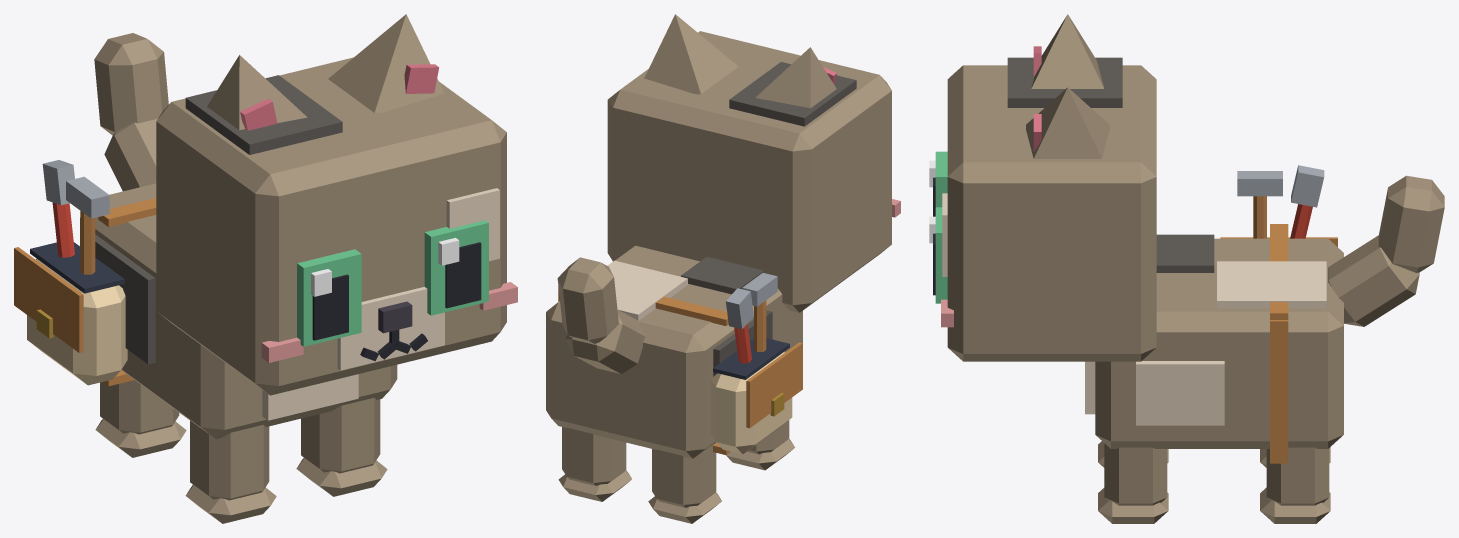
The model's file is CatCafe_Cat_Rubble.glb.
3 renders of one model, left to right at view 1: azimuth 30°, elevation 25°; view 2: azimuth 150°, elevation 25°; view 3: azimuth 270°, elevation 25°, orthographic. The views are drawn at different scales.
Visible parts, largest first — view 1: CatCafe_Cat_Rubble_Head, CatCafe_Cat_Rubble_Body, CatCafe_Cat_Rubble_Tail, CatCafe_Cat_Rubble_LegF2, CatCafe_Cat_Rubble_LegF1, CatCafe_Cat_Rubble_EarL, CatCafe_Cat_Rubble_Eye2, CatCafe_Cat_Rubble_Eye1, CatCafe_Cat_Rubble_LegB2, CatCafe_Cat_Rubble_EarR; view 2: CatCafe_Cat_Rubble_Head, CatCafe_Cat_Rubble_Body, CatCafe_Cat_Rubble_Tail, CatCafe_Cat_Rubble_LegB2, CatCafe_Cat_Rubble_EarL, CatCafe_Cat_Rubble_LegB1, CatCafe_Cat_Rubble_EarR, CatCafe_Cat_Rubble_LegF2; view 3: CatCafe_Cat_Rubble_Head, CatCafe_Cat_Rubble_Body, CatCafe_Cat_Rubble_Tail, CatCafe_Cat_Rubble_LegF1, CatCafe_Cat_Rubble_LegB1, CatCafe_Cat_Rubble_EarL, CatCafe_Cat_Rubble_EarR, CatCafe_Cat_Rubble_Eye1, CatCafe_Cat_Rubble_Eye2.
Part boxes in pixels (<box>): CatCafe_Cat_Rubble_Head: <box>156,57,517,395</box>; CatCafe_Cat_Rubble_Body: <box>14,160,397,439</box>; CatCafe_Cat_Rubble_Tail: <box>94,33,168,191</box>; CatCafe_Cat_Rubble_LegF2: <box>185,420,276,523</box>; CatCafe_Cat_Rubble_LegF1: <box>296,397,387,496</box>; CatCafe_Cat_Rubble_EarL: <box>328,14,444,112</box>; CatCafe_Cat_Rubble_Eye2: <box>297,249,361,346</box>; CatCafe_Cat_Rubble_Eye1: <box>424,220,488,315</box>; CatCafe_Cat_Rubble_LegB2: <box>95,380,186,457</box>; CatCafe_Cat_Rubble_EarR: <box>207,55,307,130</box>; CatCafe_Cat_Rubble_Head: <box>607,31,900,312</box>; CatCafe_Cat_Rubble_Body: <box>546,245,802,458</box>; CatCafe_Cat_Rubble_Tail: <box>557,257,645,374</box>; CatCafe_Cat_Rubble_LegB2: <box>648,442,721,523</box>; CatCafe_Cat_Rubble_EarL: <box>644,14,738,94</box>; CatCafe_Cat_Rubble_LegB1: <box>558,427,631,501</box>; CatCafe_Cat_Rubble_EarR: <box>755,47,836,108</box>; CatCafe_Cat_Rubble_LegF2: <box>726,420,794,470</box>; CatCafe_Cat_Rubble_Head: <box>941,57,1156,361</box>; CatCafe_Cat_Rubble_Body: <box>1085,165,1343,463</box>; CatCafe_Cat_Rubble_Tail: <box>1328,175,1444,326</box>; CatCafe_Cat_Rubble_LegF1: <box>1098,443,1168,523</box>; CatCafe_Cat_Rubble_LegB1: <box>1260,447,1330,523</box>; CatCafe_Cat_Rubble_EarL: <box>1026,87,1109,158</box>; CatCafe_Cat_Rubble_EarR: <box>1031,14,1104,88</box>; CatCafe_Cat_Rubble_Eye1: <box>929,207,947,303</box>; CatCafe_Cat_Rubble_Eye2: <box>929,151,947,216</box>.
Bounding box in the file's own units: 1.15 × 1.86 × 1.97.
1 material, 1 textured.
